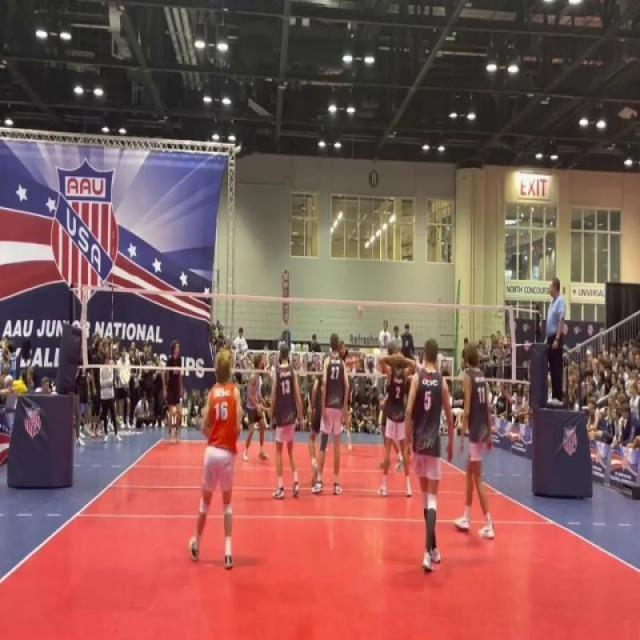volleyball: (355, 304, 366, 316)
